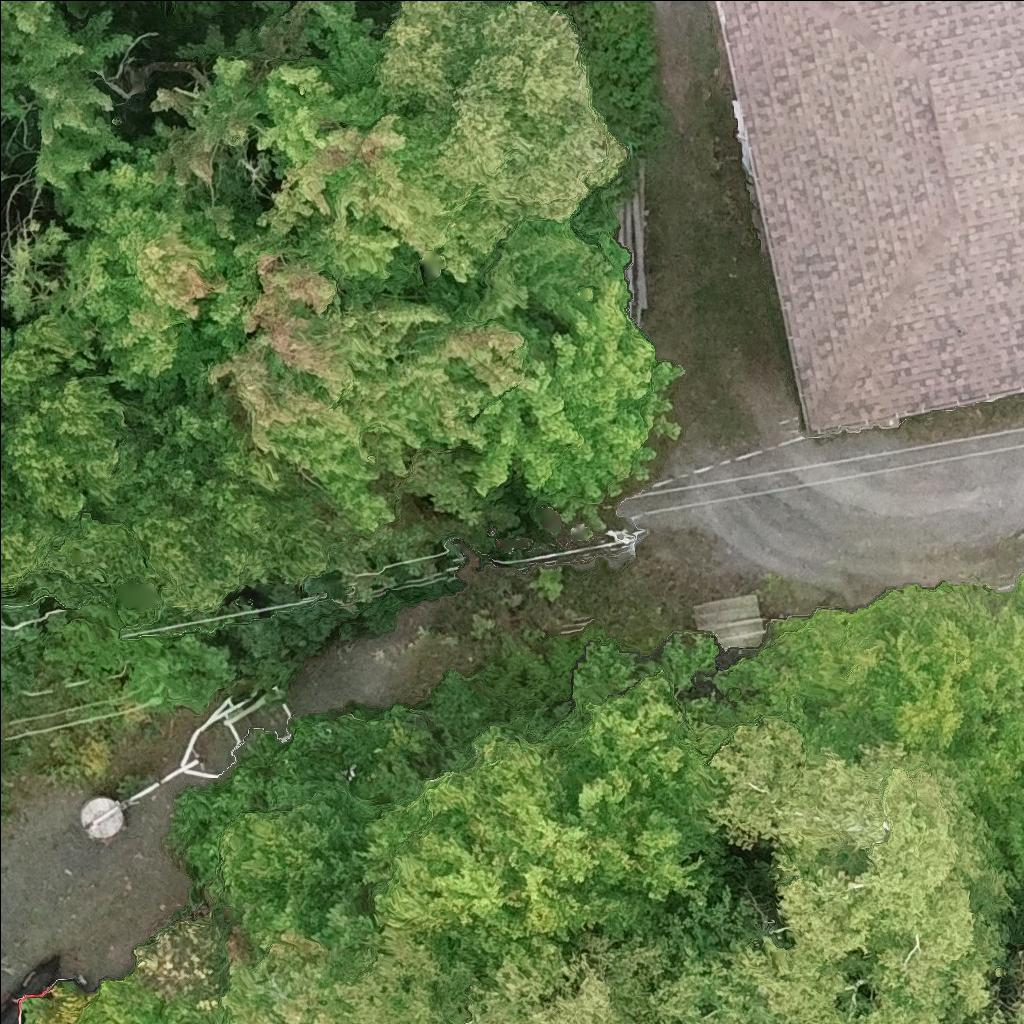crown: (209, 244, 682, 534), (367, 635, 731, 978), (631, 726, 1009, 1023), (718, 579, 1023, 812), (169, 710, 448, 960), (374, 0, 630, 225), (257, 68, 471, 285), (321, 925, 663, 1023), (225, 931, 374, 1023), (976, 969, 1023, 1023)
